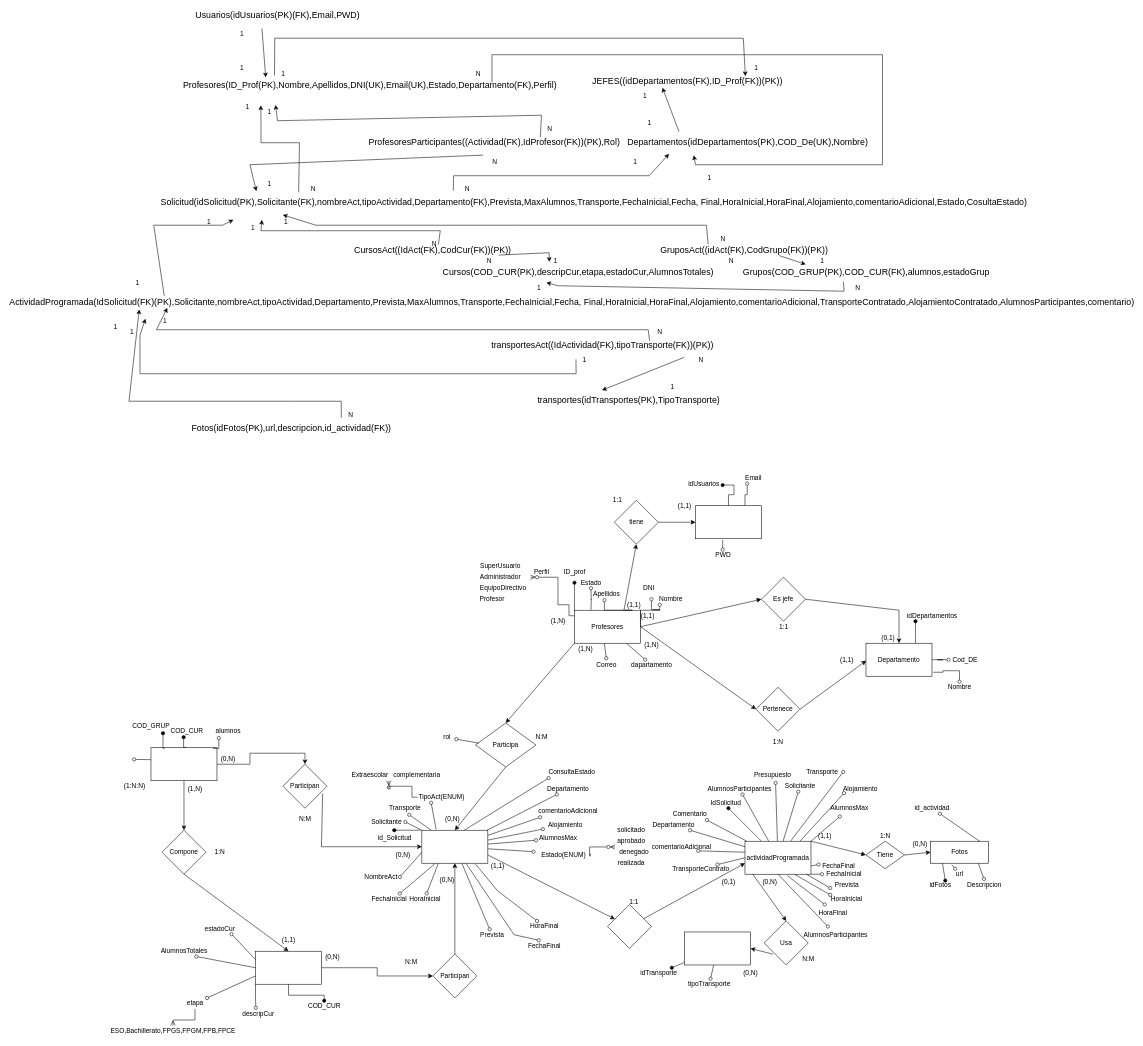
Image size: 1143x1046. Some labels were removed from this diagram. Here are the shapes that lost their labels. From the top down, the centre of each, then its label:
At [728,522]: "usuario".
At [183,764]: "Grupos".
At [454,846]: "Solicitud".
At [629,926]: "Procede".
At [288,967]: "Curso".
At [717,948]: "Medio de transporte".
